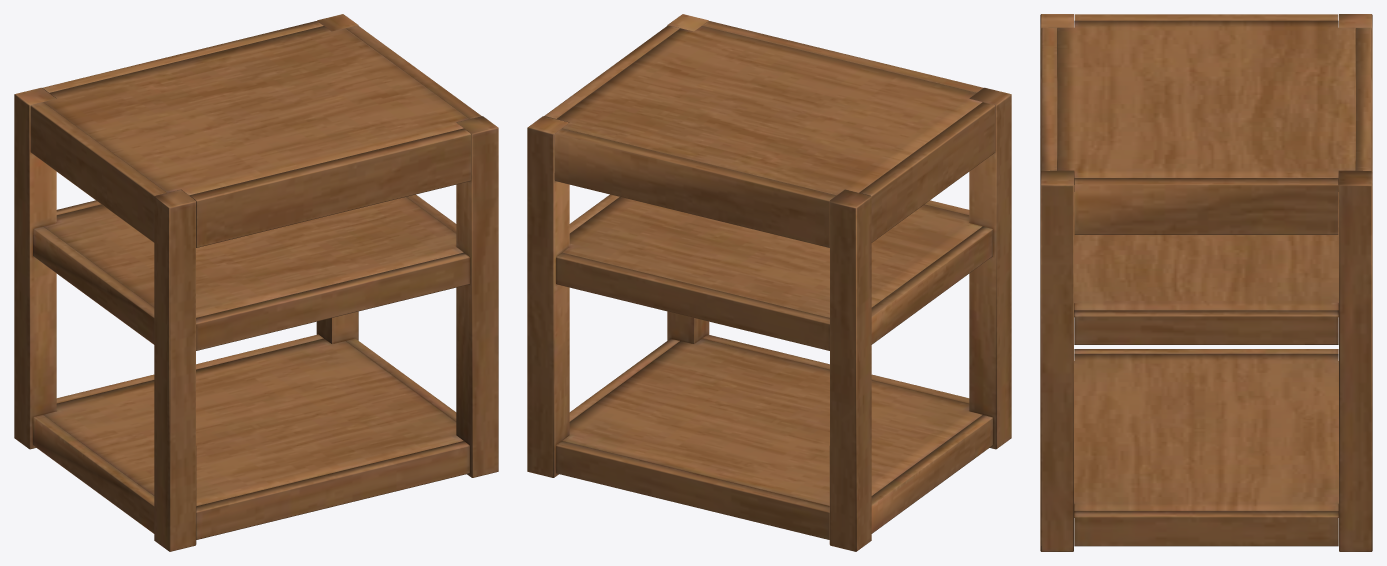
The model's file is side_table_01.glb.
3 renders of one model, left to right at view 1: azimuth 30°, elevation 25°; view 2: azimuth 150°, elevation 25°; view 3: azimuth 270°, elevation 25°, orthographic. The views are drawn at different scales.
Parts seen in each view (by area): view 1: side_table_01; view 2: side_table_01; view 3: side_table_01.
Boxes of the visible parts, left/top/right/bottom form: side_table_01: left=14, top=14, right=498, bottom=551; side_table_01: left=527, top=14, right=1011, bottom=551; side_table_01: left=1040, top=14, right=1372, bottom=551.
Size of the model in its own units: 0.55 by 0.5507 by 0.45.
1 material, 1 textured.
